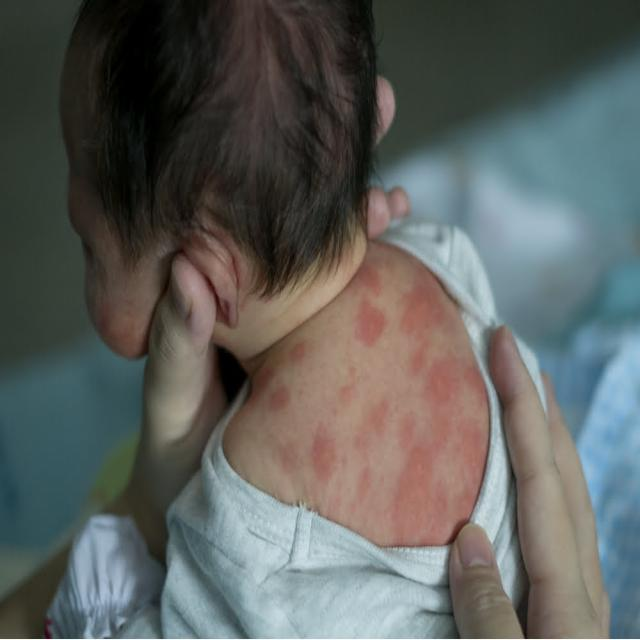eczema: (261, 340, 386, 499), (394, 362, 486, 542), (351, 258, 475, 391)
